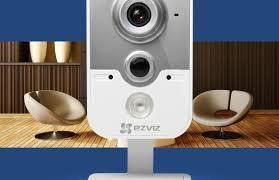tutu: (85, 0, 195, 140)
